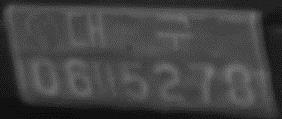0: (30, 56, 60, 96)
2: (152, 61, 186, 105)
3: (223, 61, 258, 109)
5: (120, 58, 150, 102)
6: (63, 57, 94, 98)
7: (186, 58, 217, 106)
다: (92, 59, 121, 97)
대구_D: (66, 10, 196, 52)
영: (23, 10, 63, 49)
